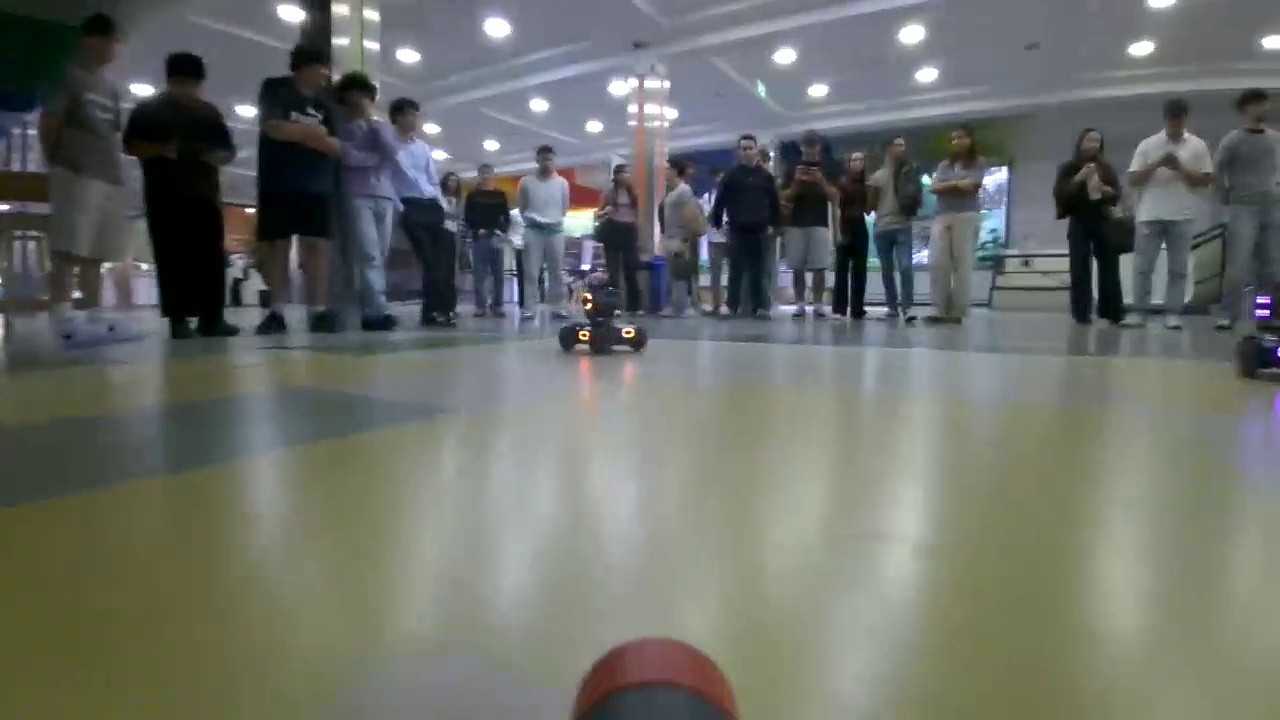robot: (562, 290, 646, 356), (1240, 286, 1280, 378)
